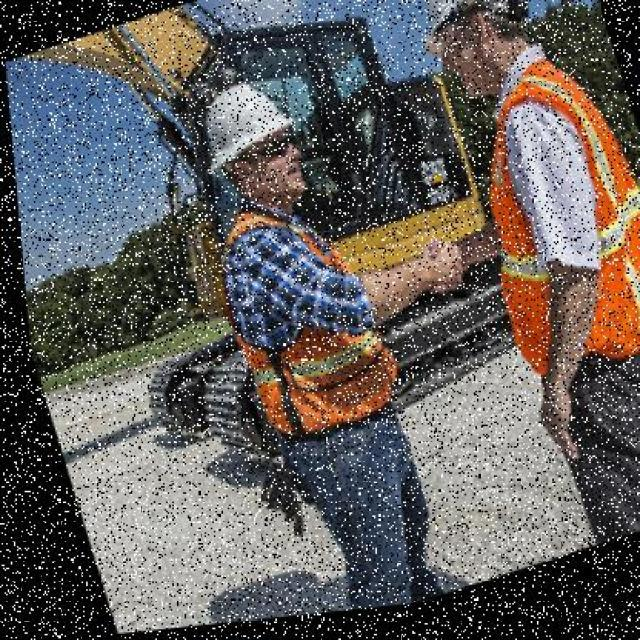helmet: (174, 66, 312, 196), (391, 0, 549, 79)
vest: (423, 46, 639, 406), (197, 179, 413, 458)
